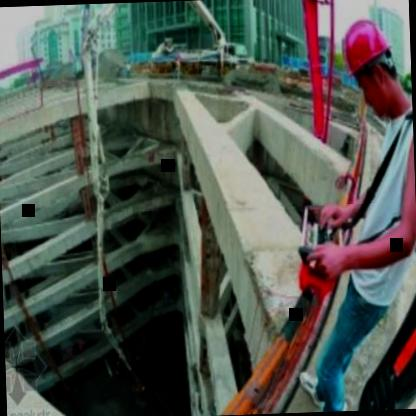helmet: (336, 3, 402, 115)
